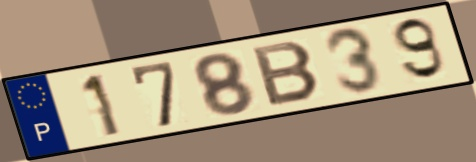1: (78, 71, 125, 138)
3: (324, 24, 385, 99)
7: (128, 60, 177, 130)
8: (191, 50, 261, 119)
9: (390, 17, 449, 84)
B: (248, 39, 324, 109)
